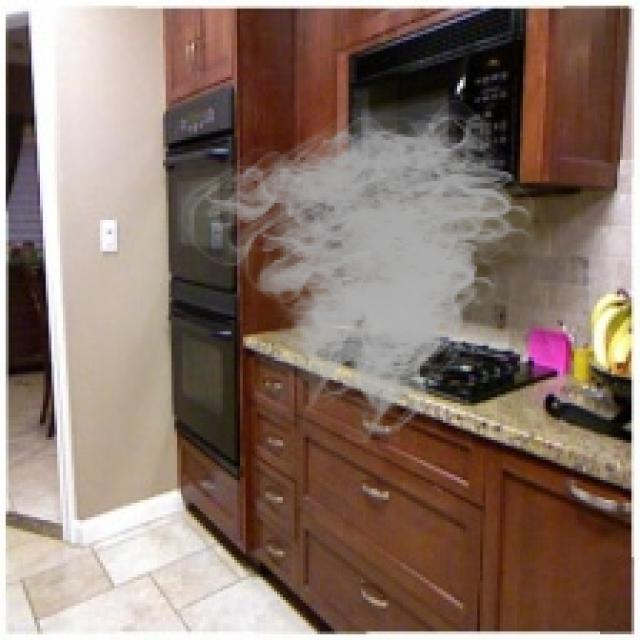smoke: (174, 91, 546, 443)
